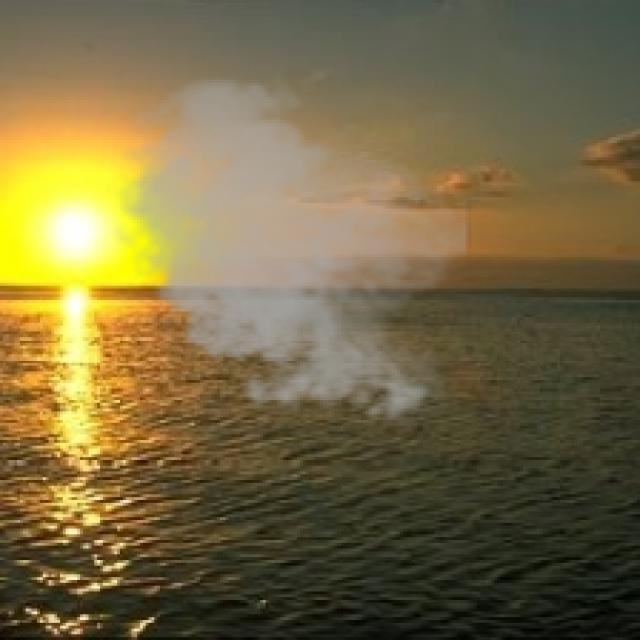Smoke: (106, 69, 472, 432)
